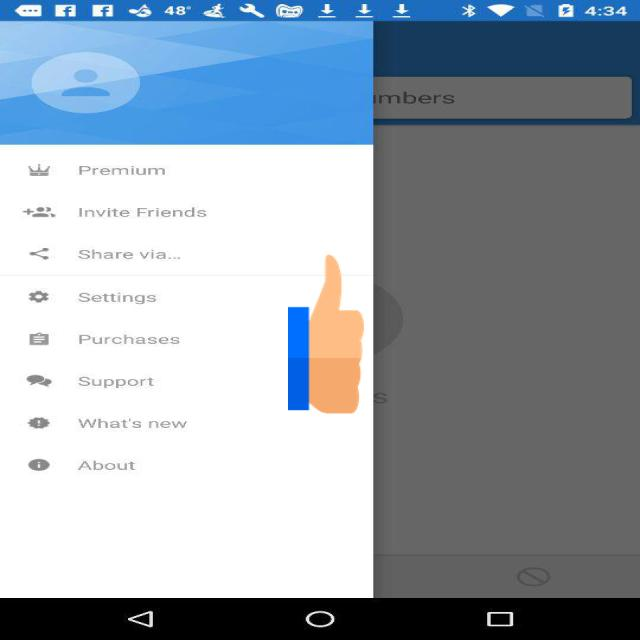privacy zuckering: (288, 251, 364, 417)
